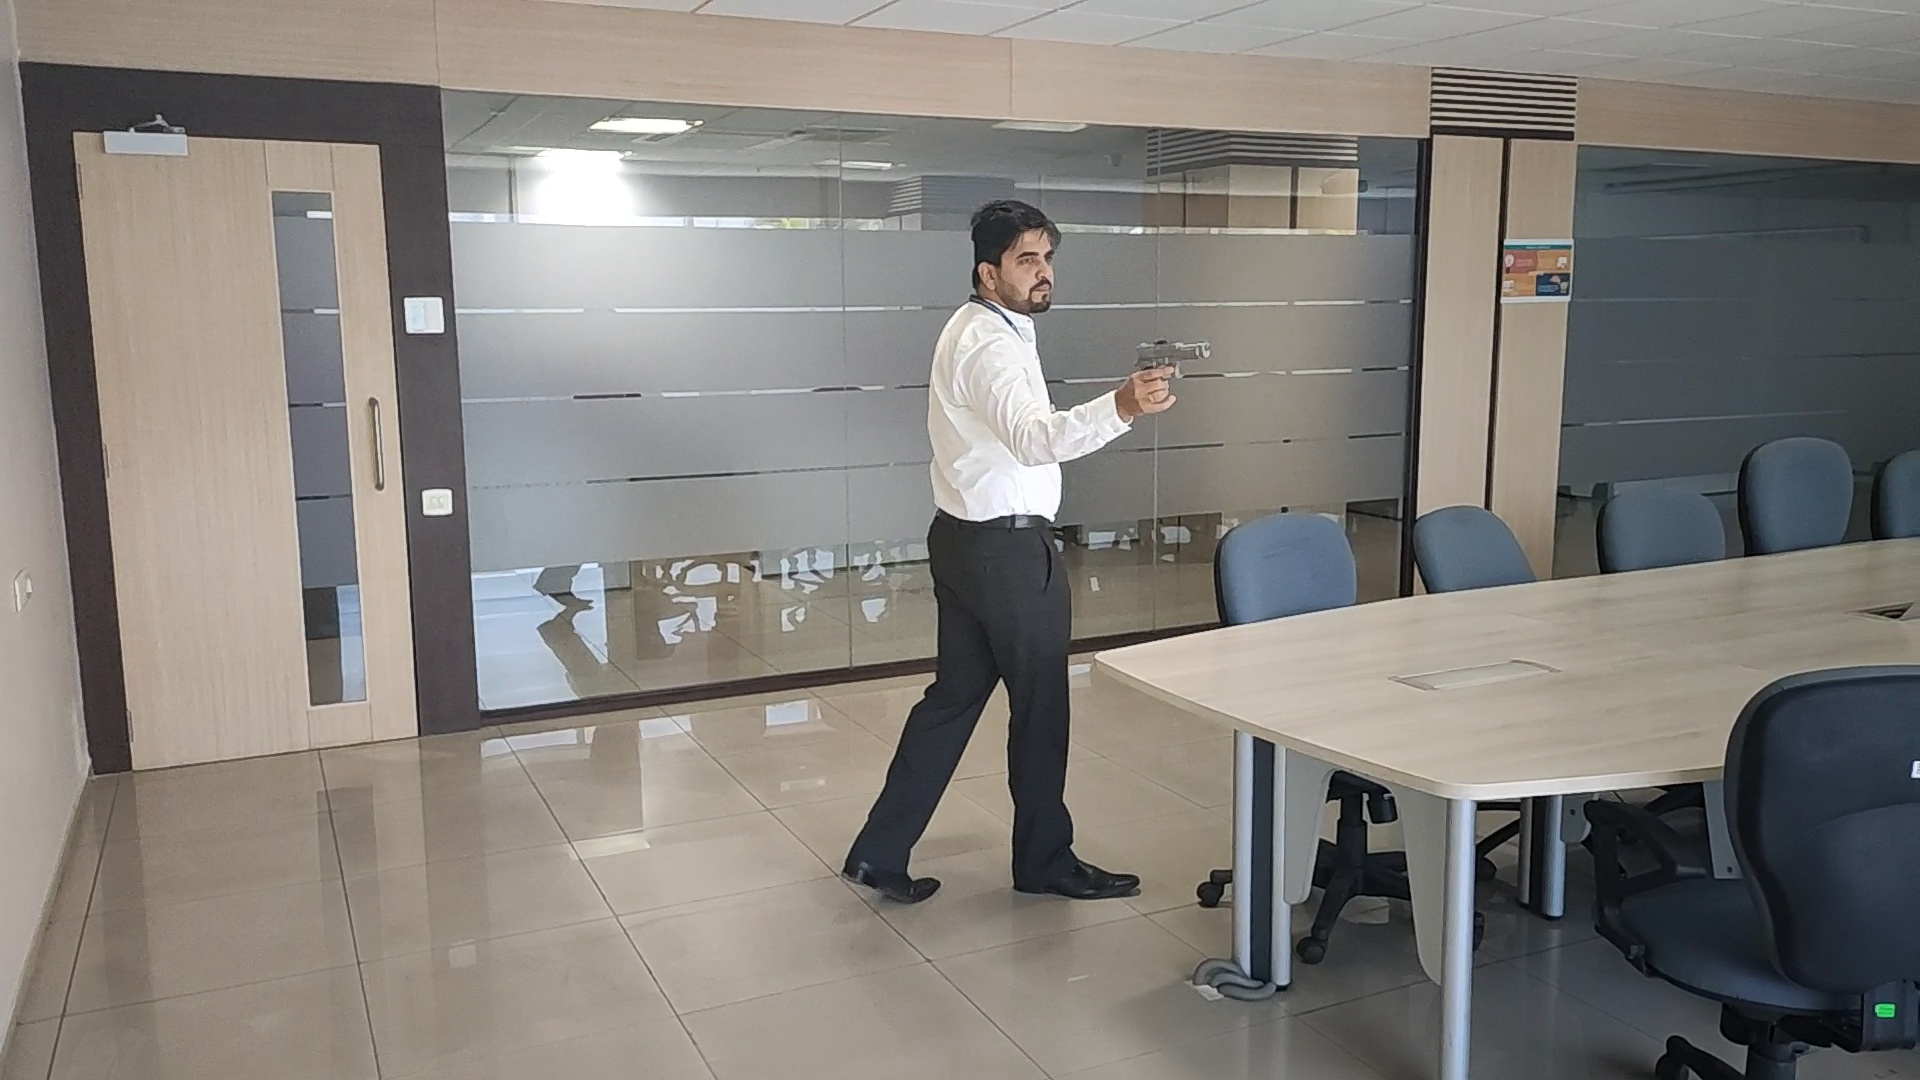gun: (1135, 334, 1215, 381)
